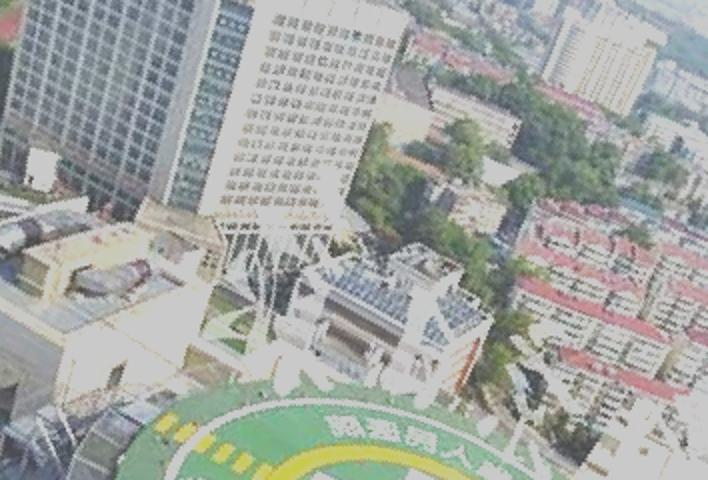Apron: (254, 429, 533, 480)
